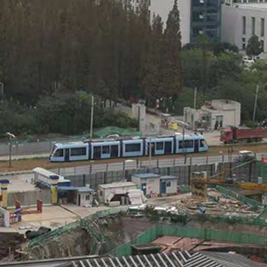car: (47, 133, 210, 158)
